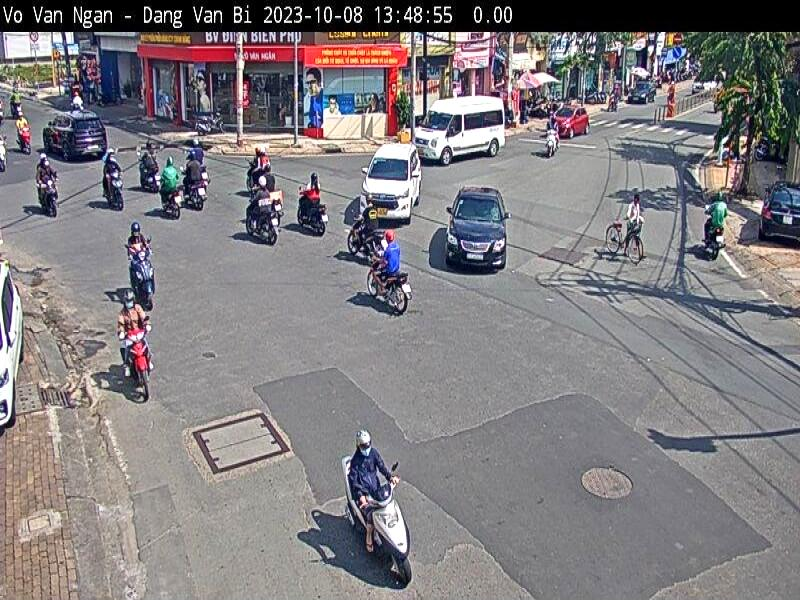car: (414, 96, 510, 166), (446, 187, 511, 274), (0, 249, 30, 437), (362, 141, 423, 220), (47, 112, 109, 162), (759, 182, 800, 246), (554, 102, 596, 140), (627, 81, 656, 108)
motorcycle: (326, 453, 418, 585), (113, 320, 158, 400), (121, 236, 167, 305), (36, 156, 70, 234), (244, 186, 284, 244), (370, 267, 414, 315), (292, 187, 328, 237), (344, 213, 382, 257), (156, 172, 184, 227), (703, 209, 727, 268), (136, 150, 163, 200), (105, 159, 128, 217), (238, 162, 279, 190), (185, 176, 210, 220), (14, 116, 32, 156), (606, 77, 624, 115), (0, 130, 10, 180), (11, 89, 26, 121), (545, 127, 559, 160)
